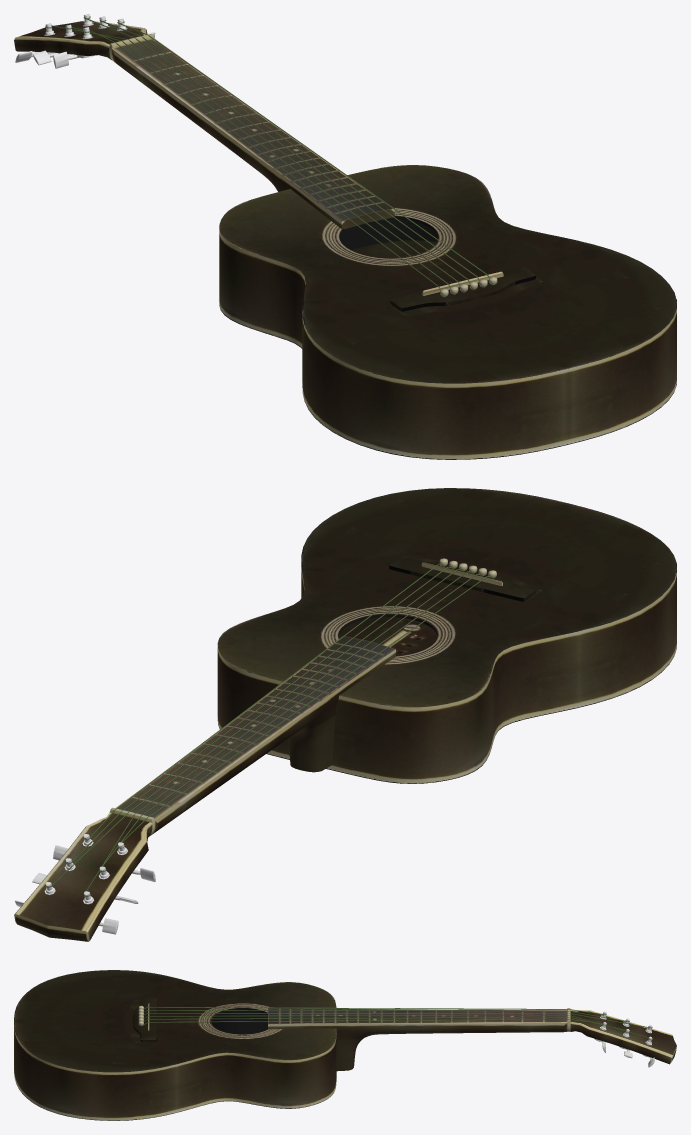
File: photorealistic_guitar_v2.glb
3 views of the same model, one above another, from view 1: azimuth 30°, elevation 25°; view 2: azimuth 150°, elevation 25°; view 3: azimuth 270°, elevation 25° (orthographic). The views are drawn at different scales.
Visible parts, largest first — view 1: body.001_1, neck.001_3, strings.001_0, bridge.001_2, tuning.001_4; view 2: body.001_1, neck.001_3, strings.001_0, bridge.001_2, tuning.001_4; view 3: body.001_1, neck.001_3, strings.001_0, bridge.001_2, tuning.001_4.
Part boxes in pixels (bbox=[...]): body.001_1: bbox=[219, 165, 676, 459]; neck.001_3: bbox=[14, 20, 394, 229]; strings.001_0: bbox=[45, 16, 489, 297]; bridge.001_2: bbox=[390, 267, 535, 311]; tuning.001_4: bbox=[15, 14, 155, 68]; body.001_1: bbox=[217, 488, 676, 783]; neck.001_3: bbox=[14, 636, 395, 941]; strings.001_0: bbox=[45, 564, 494, 896]; bridge.001_2: bbox=[389, 556, 535, 601]; tuning.001_4: bbox=[15, 834, 155, 934]; body.001_1: bbox=[14, 970, 336, 1120]; neck.001_3: bbox=[268, 1008, 676, 1071]; strings.001_0: bbox=[142, 1007, 652, 1040]; bridge.001_2: bbox=[132, 998, 156, 1042]; tuning.001_4: bbox=[595, 1011, 654, 1067].
Size of the model in its own units: 0.3653 by 0.0933 by 1.
7 materials, 5 textured.
